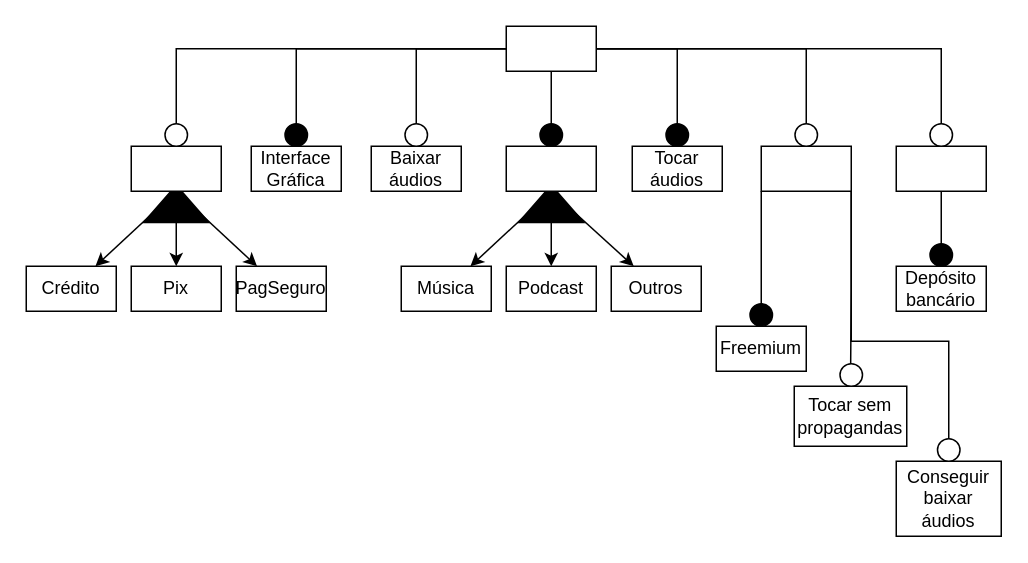
The diagram is 1028 pixels wide and 563 high, and some of its shapes have lost their labels. Each missing label, with the centre of its shape:
Assinatura: [805,168]
Cobrança: [175,168]
Pagamento: [940,168]
Postar áudios: [550,168]
Streaming de áudio: [550,48]
